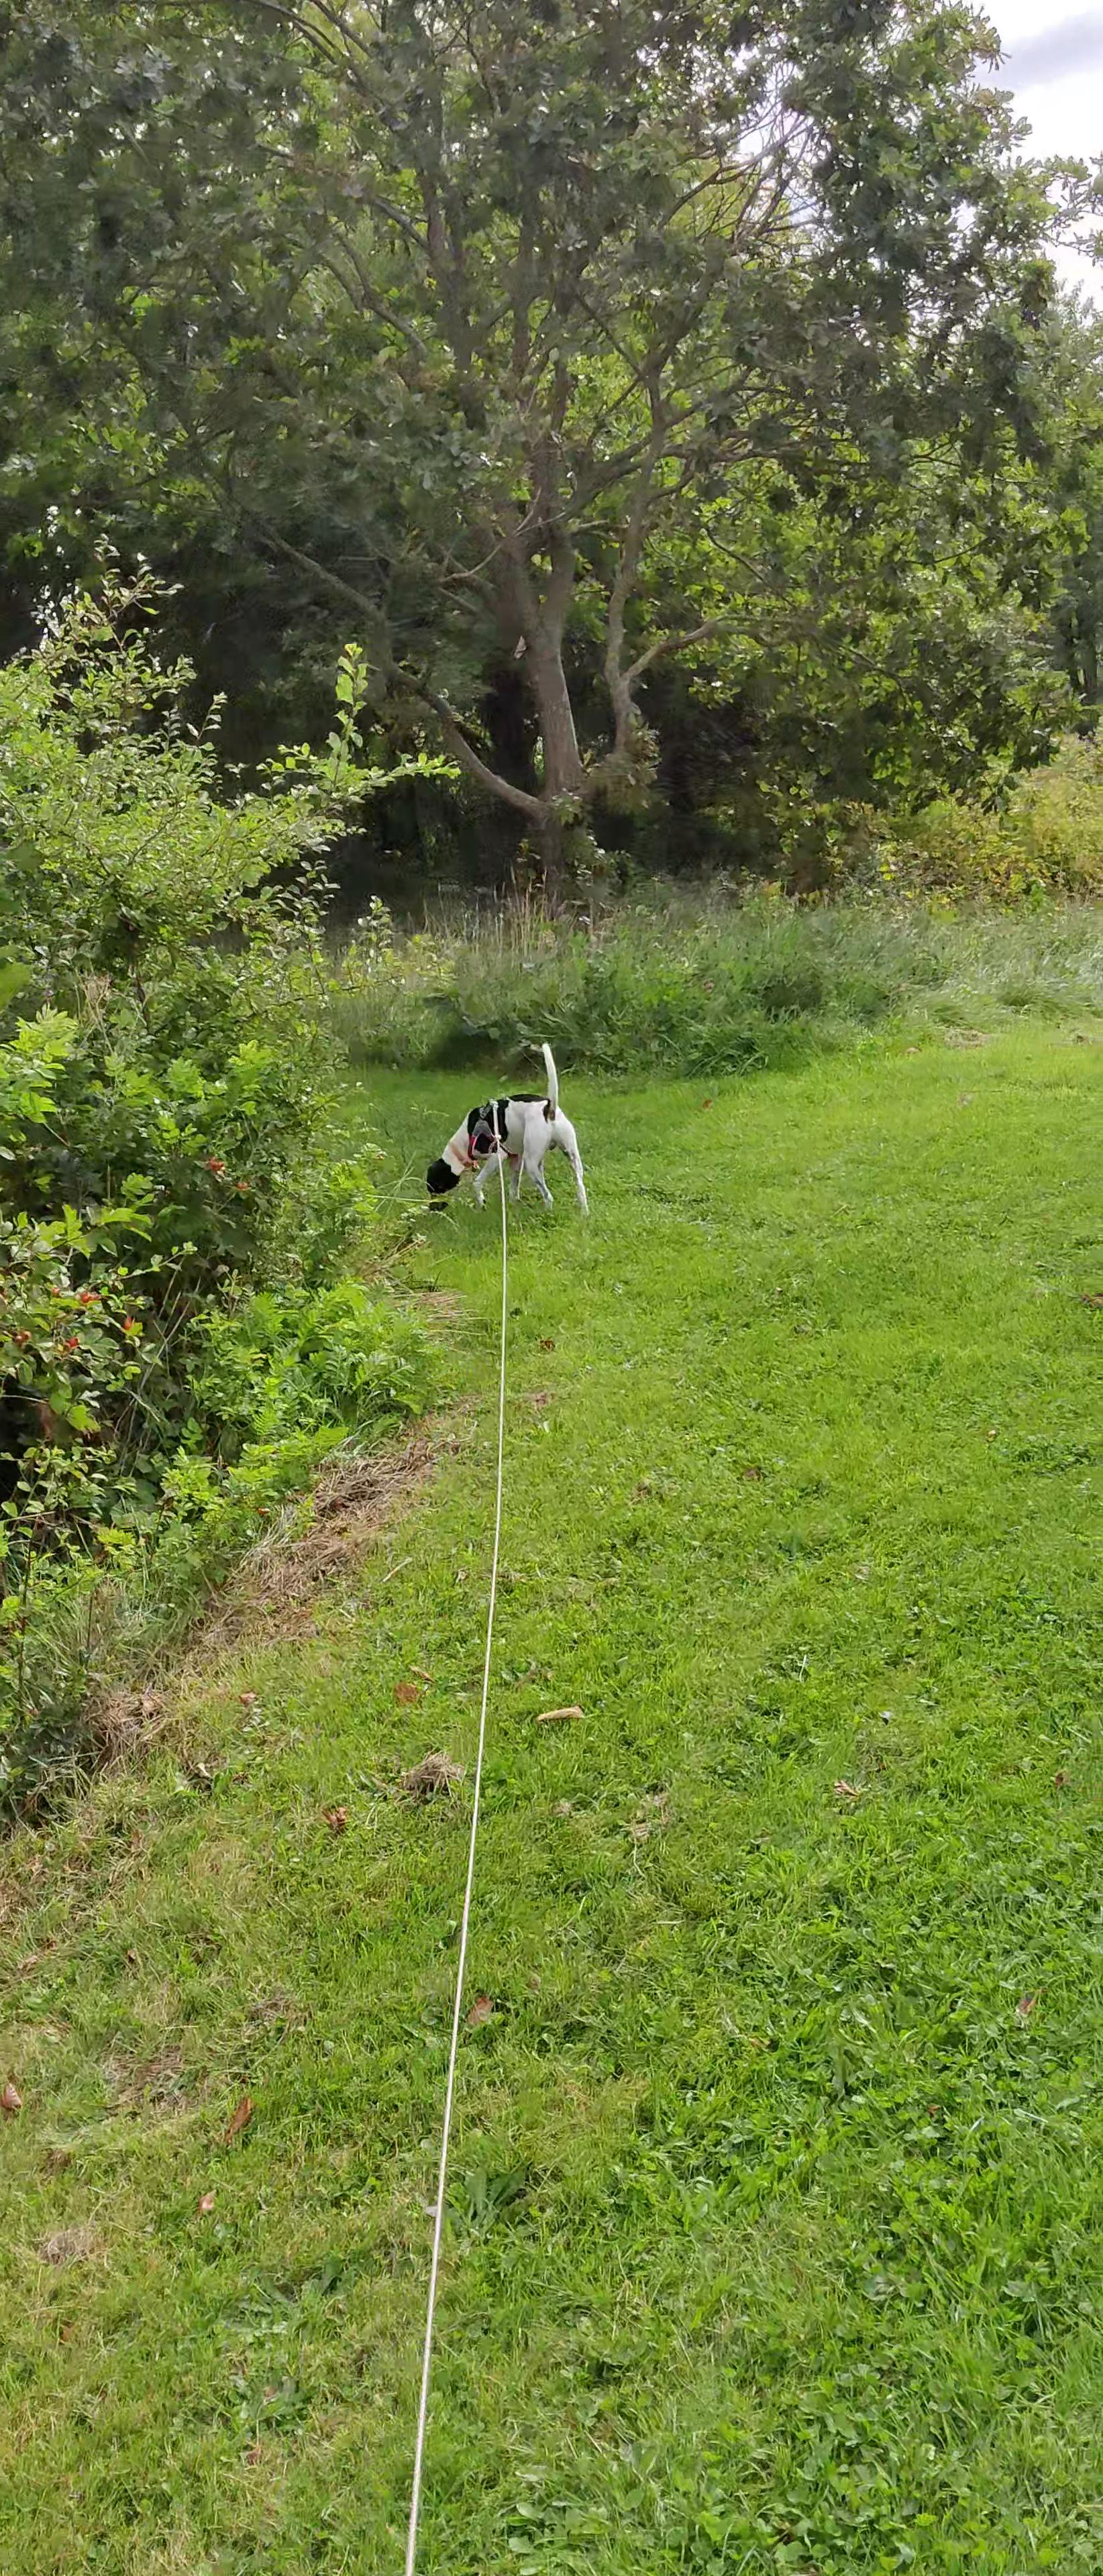Dog: (422, 1038, 593, 1221)
